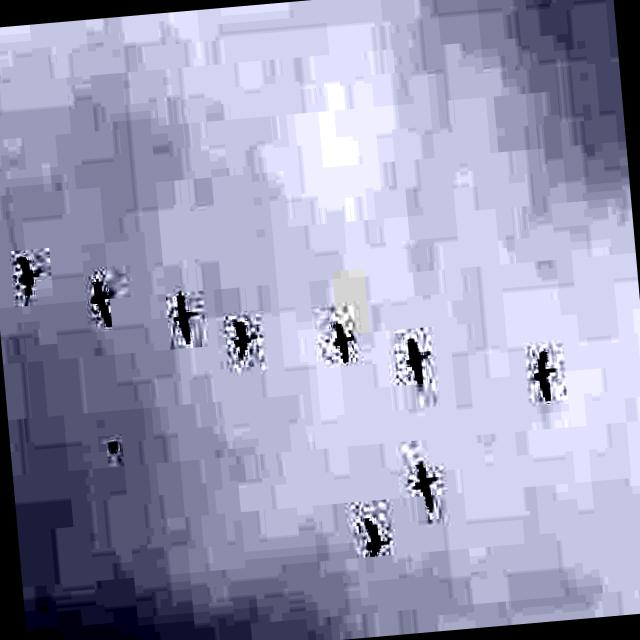bird: (0, 245, 54, 306), (80, 271, 129, 333), (393, 327, 435, 392), (353, 508, 398, 560), (158, 288, 201, 342), (407, 459, 447, 516), (223, 307, 262, 364), (323, 312, 367, 361), (532, 340, 562, 406)
